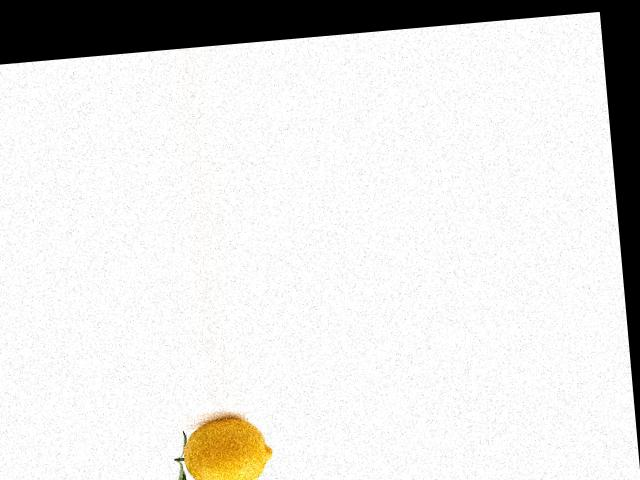lemon: (177, 411, 280, 480)
